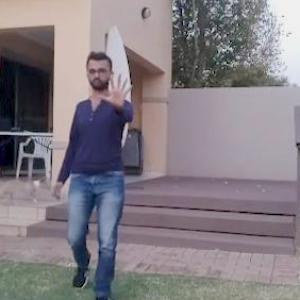follow_hand: (97, 67, 137, 112)
